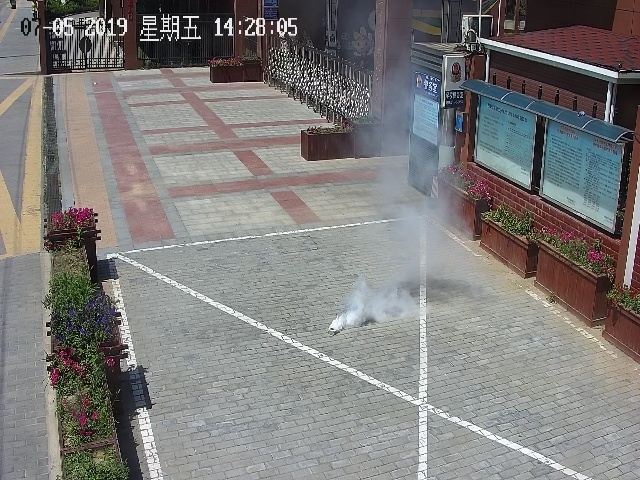yanwu: (329, 273, 422, 326)
